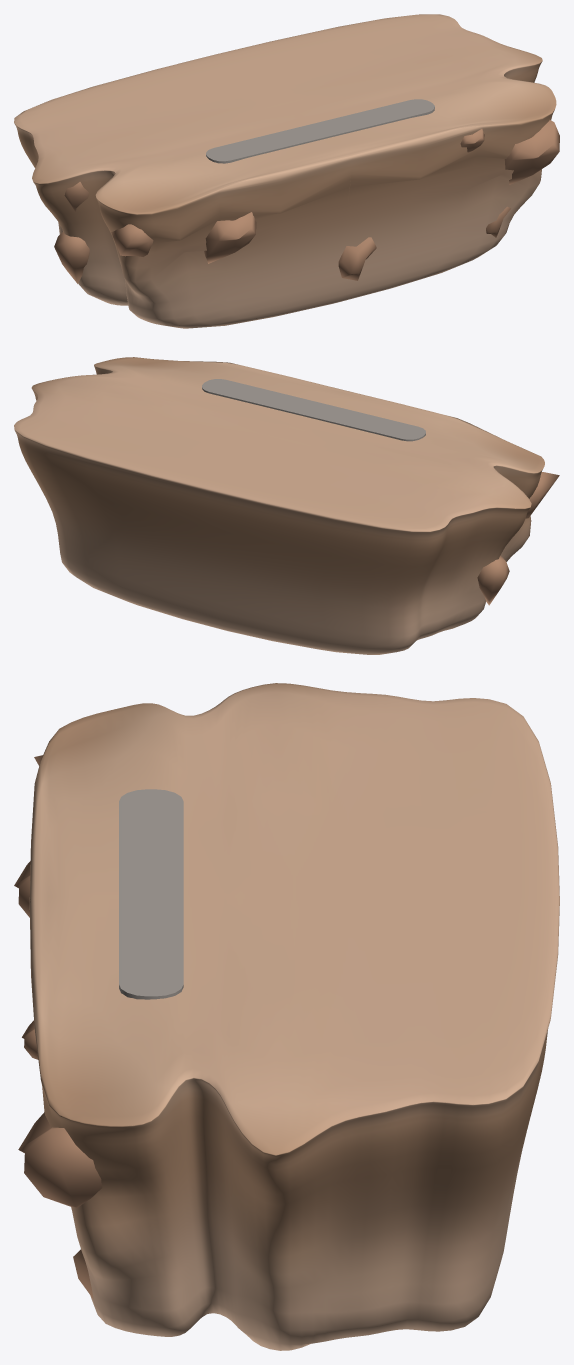
The model's file is Floor.fbx.
3 views of the same model, one above another, from view 1: azimuth 30°, elevation 25°; view 2: azimuth 150°, elevation 25°; view 3: azimuth 270°, elevation 25° (orthographic). The views are drawn at different scales.
Parts seen in each view (by area): view 1: Floor_Cliff, Path; view 2: Floor_Cliff, Path; view 3: Floor_Cliff, Path.
Boxes of the visible parts, <box> form: Floor_Cliff: <box>14,14,559,328</box>; Path: <box>206,99,434,163</box>; Floor_Cliff: <box>14,357,559,654</box>; Path: <box>202,379,425,441</box>; Floor_Cliff: <box>14,683,559,1350</box>; Path: <box>119,789,183,999</box>.
Size of the model in its own units: 6.42 by 1.99 by 3.14.
1 material, 1 textured.
